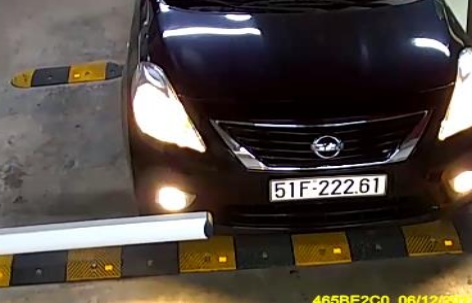plate: (267, 166, 387, 208)
